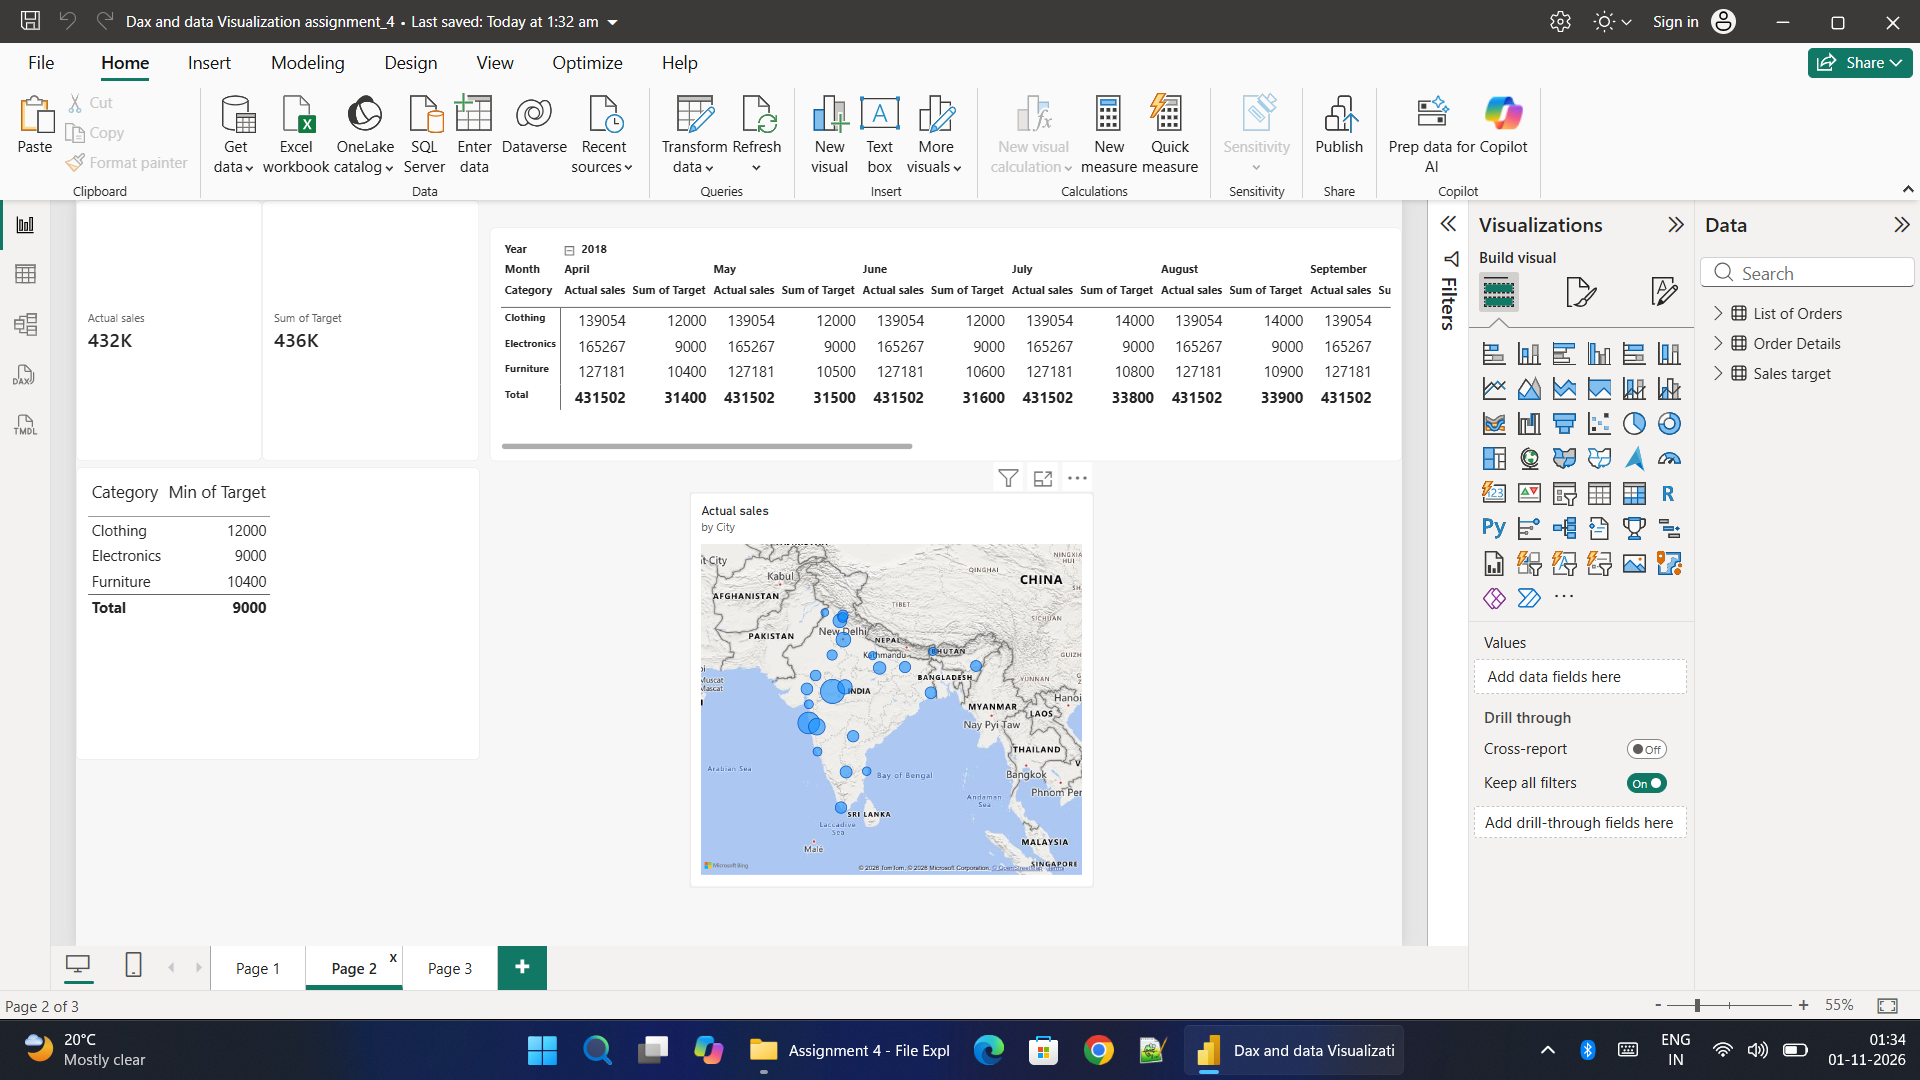

This screenshot's page, from the dashboard's own definition file:
{"tool":"powerbi","page":{"name":"Page 2","canvas":[1920,1080],"ordinal":1},"visuals":[{"type":"cardVisual","fields":{"Data":["Order Details.Actual sales"]},"box":[0,0,269.6,378.2],"z":0},{"type":"cardVisual","fields":{"Data":["Sum(Sales target.Target)"]},"box":[269.6,0,314.9,378.2],"z":1000},{"type":"tableEx","fields":{"Values":["Sales target.Category","Min(Sales target.Target)"]},"box":[0,387.3,584.5,423.5],"z":2000},{"type":"pivotTable","fields":{"Columns":["Sales target.Month of Order Date.Variation.Date Hierarchy.Year","Sales target.Month of Order Date.Variation.Date Hierarchy.Month"],"Rows":["Sales target.Category"],"Values":["Order Details.Actual sales","Sum(Sales target.Target)"]},"box":[599,39.8,1321.1,338.4],"z":3000},{"type":"map","fields":{"Category":["List of Orders.City"],"Size":["Order Details.Actual sales"]},"box":[888.5,423.5,584.5,571.9],"z":5001}]}

Visuals, with their boxes on the page's 1920x1080 design canvas (x1, y1, x2, y2). These are canvas units, not pixel positions in the 1920x1080 screenshot, which may show the page scaled, cropped or inside an application window:
cardVisual - Order Details.Actual sales: Rect(0, 0, 270, 378)
cardVisual - Sum(Sales target.Target): Rect(270, 0, 584, 378)
tableEx - Sales target.Category x Min(Sales target.Target): Rect(0, 387, 584, 811)
pivotTable - Sales target.Month of Order Date.Variation.Date Hierarchy.Year x Sales target.Month of Order Date.Variation.Date Hierarchy.Month: Rect(599, 40, 1920, 378)
map - List of Orders.City x Order Details.Actual sales: Rect(888, 424, 1473, 995)
